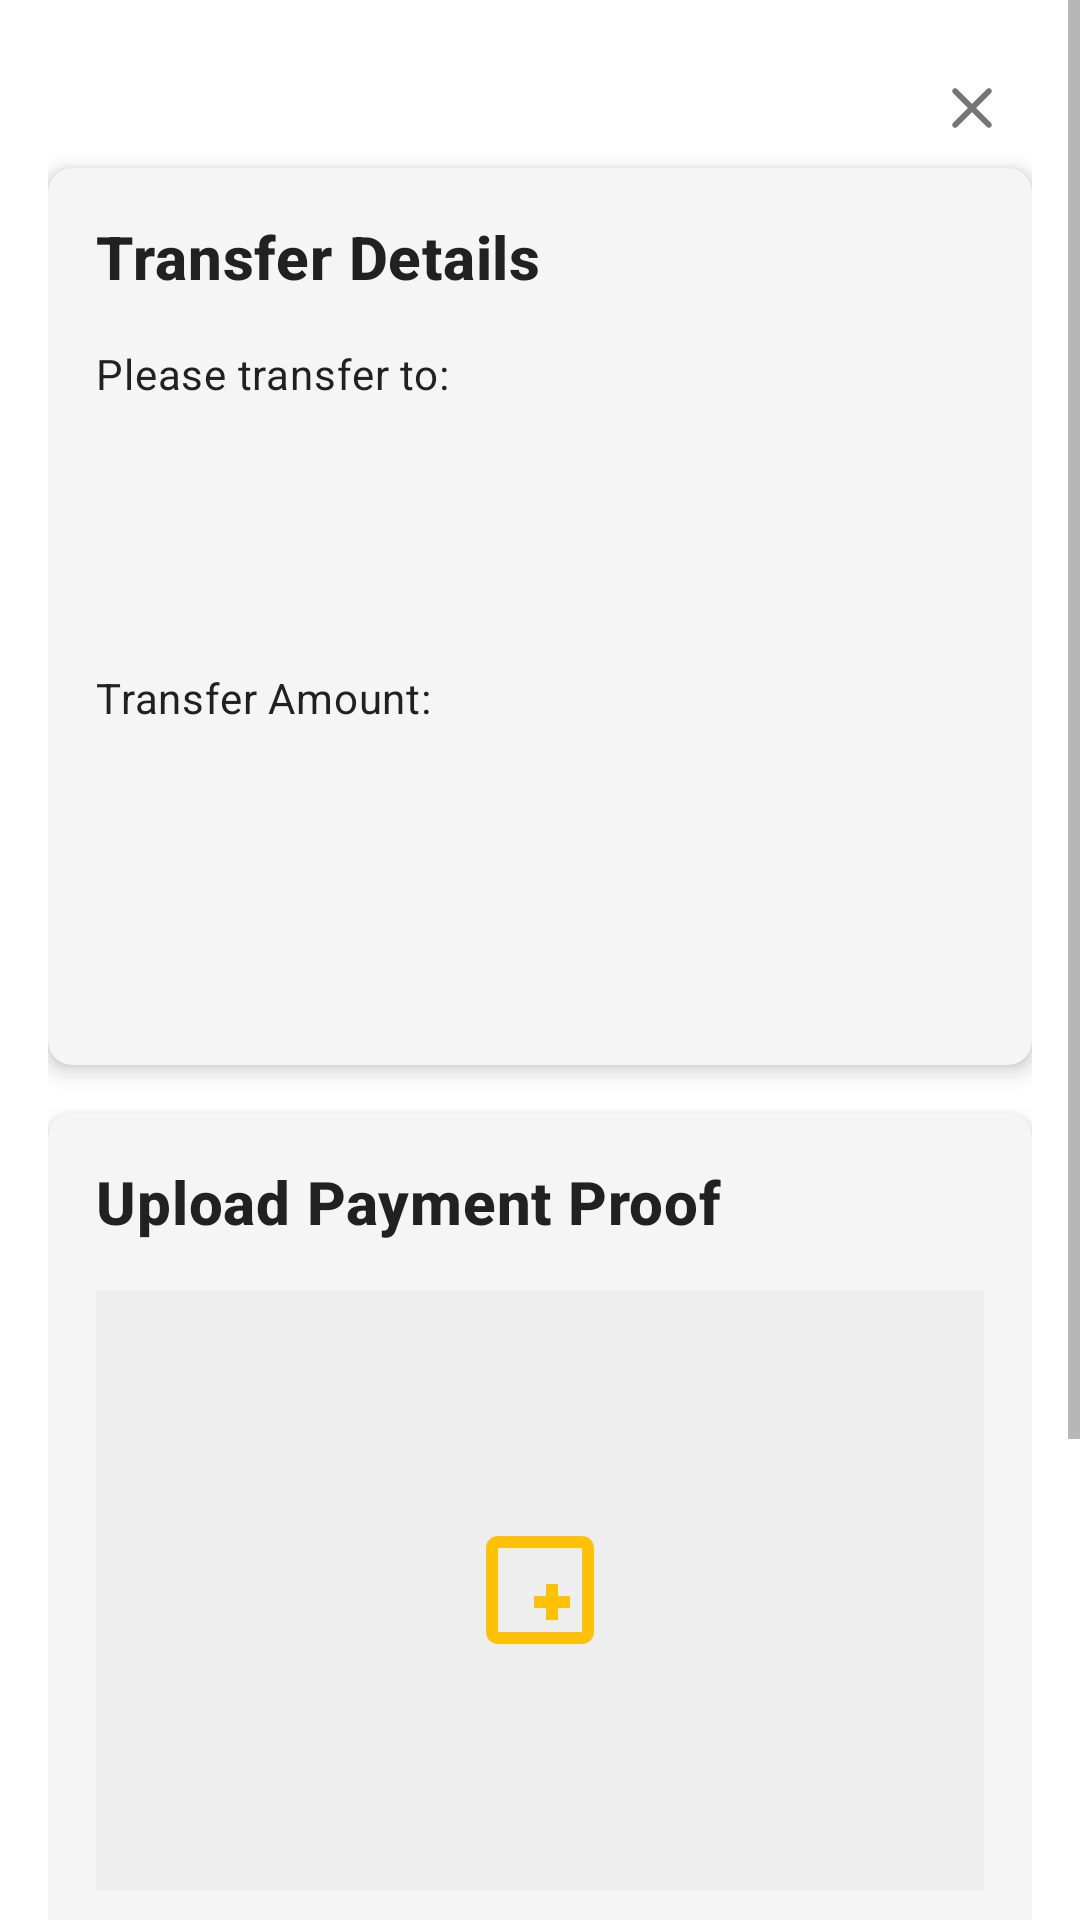

Point at icon controls on the screen. Image size 1080w x 1920h, points as (x,y).
close: (972,108)
